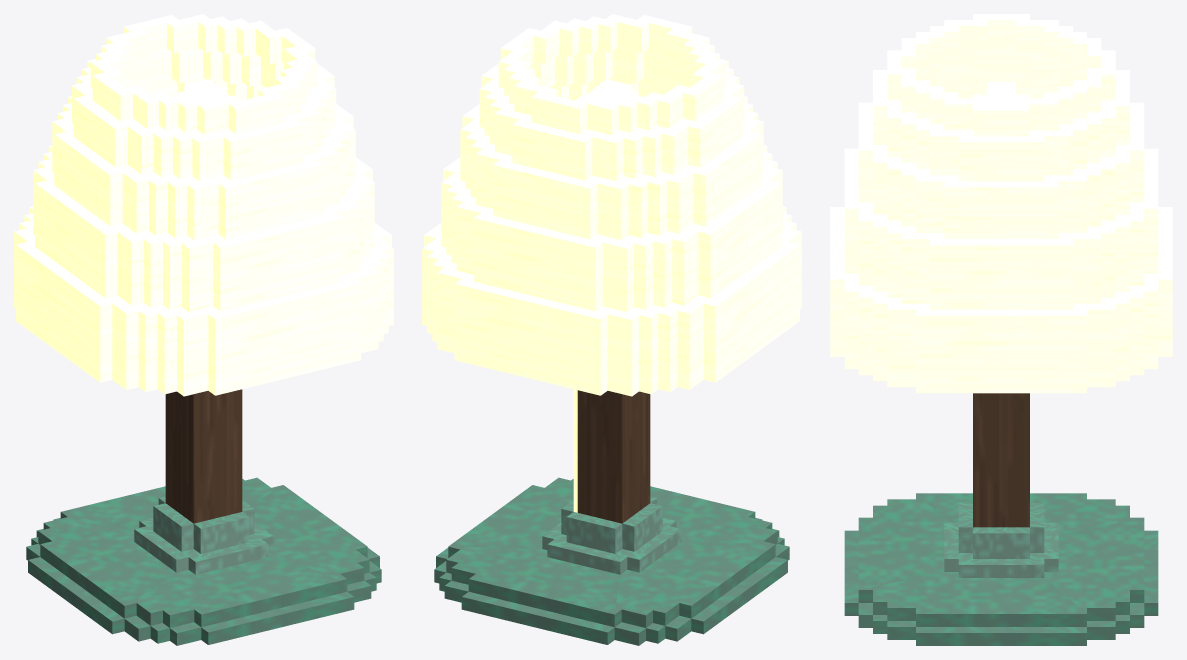
The model's file is Desk Lamp Of Suffering.fbx.
3 views of the same model, side by side, from view 1: azimuth 30°, elevation 25°; view 2: azimuth 150°, elevation 25°; view 3: azimuth 270°, elevation 25° (orthographic).
Parts seen in each view (by area): view 1: Lamp; view 2: Lamp; view 3: Lamp.
Part boxes in pixels (x1=…): Lamp: x1=14, y1=14, x2=393, y2=645; Lamp: x1=422, y1=14, x2=801, y2=645; Lamp: x1=830, y1=14, x2=1172, y2=645.
Bounding box in the file's own units: 34.3 × 57.17 × 34.3.
Materials: 1 (1 with a texture image).
